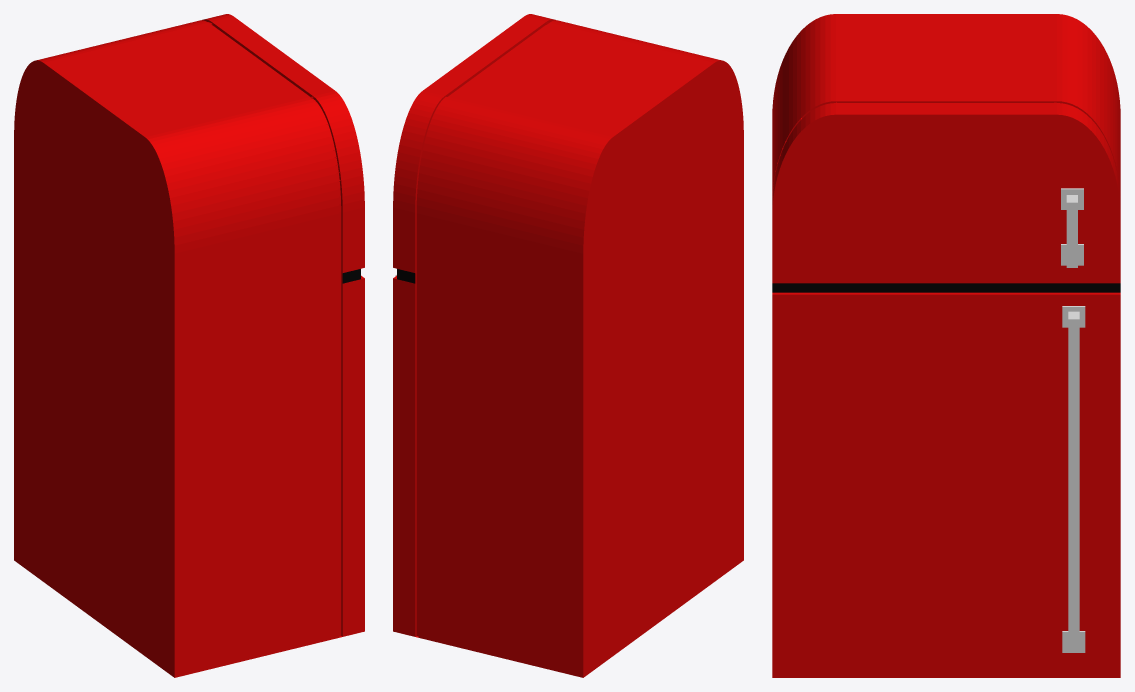
Rendered from Fridge.glb.
The picture shows the model from 3 angles, left to right: view 1: azimuth 30°, elevation 25°; view 2: azimuth 150°, elevation 25°; view 3: azimuth 270°, elevation 25°; orthographic projection. The views are drawn at different scales.
Visible parts, largest first — view 1: Cube; view 2: Cube; view 3: Cube, Cube.002.
Part boxes in pixels (left/top/right/bottom): Cube: left=14, top=14, right=364, bottom=677; Cube: left=393, top=14, right=743, bottom=677; Cube: left=772, top=14, right=1120, bottom=677; Cube.002: left=1068, top=311, right=1079, bottom=652.
Bounding box in the file's own units: 0.6887 × 1.65 × 0.9269.
